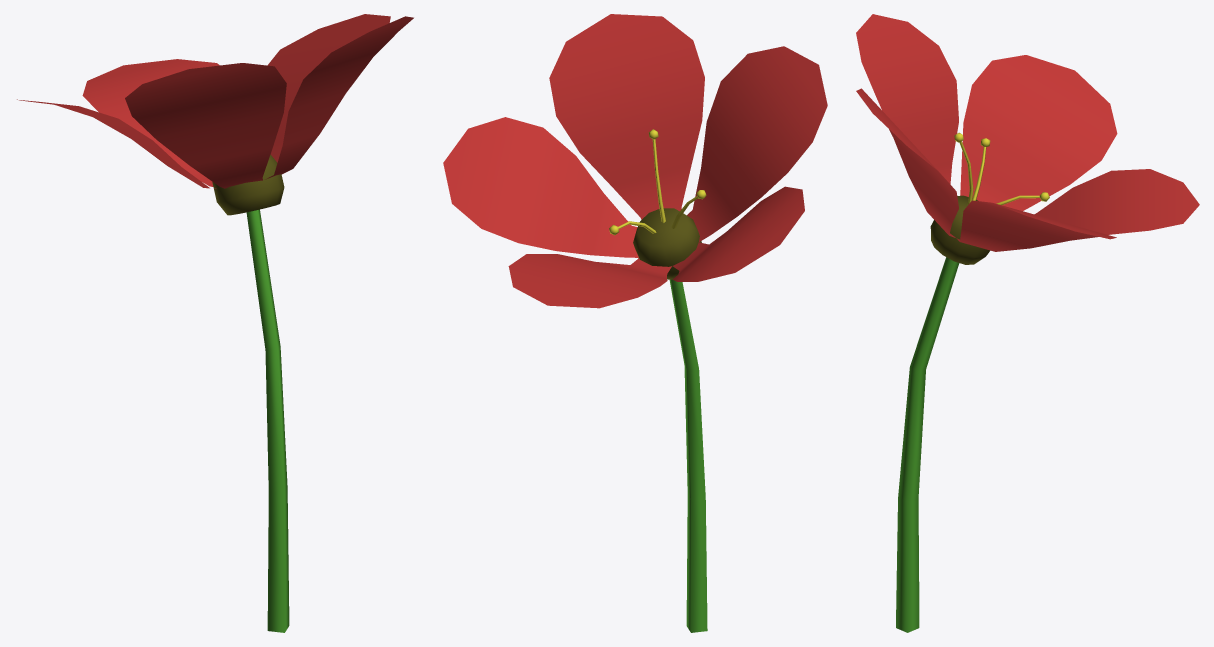
The model's file is RedFlower.fbx.
3 renders of one model, left to right at view 1: azimuth 30°, elevation 25°; view 2: azimuth 150°, elevation 25°; view 3: azimuth 270°, elevation 25°, orthographic. The views are drawn at different scales.
Visible parts, largest first — view 1: RedFlower; view 2: RedFlower; view 3: RedFlower.
Boxes of the visible parts, x1,y1,x2,y2 form: RedFlower: [17, 14, 413, 632]; RedFlower: [443, 14, 827, 632]; RedFlower: [856, 14, 1199, 632].
Bounding box in the file's own units: 18.87 × 30.93 × 17.04.
